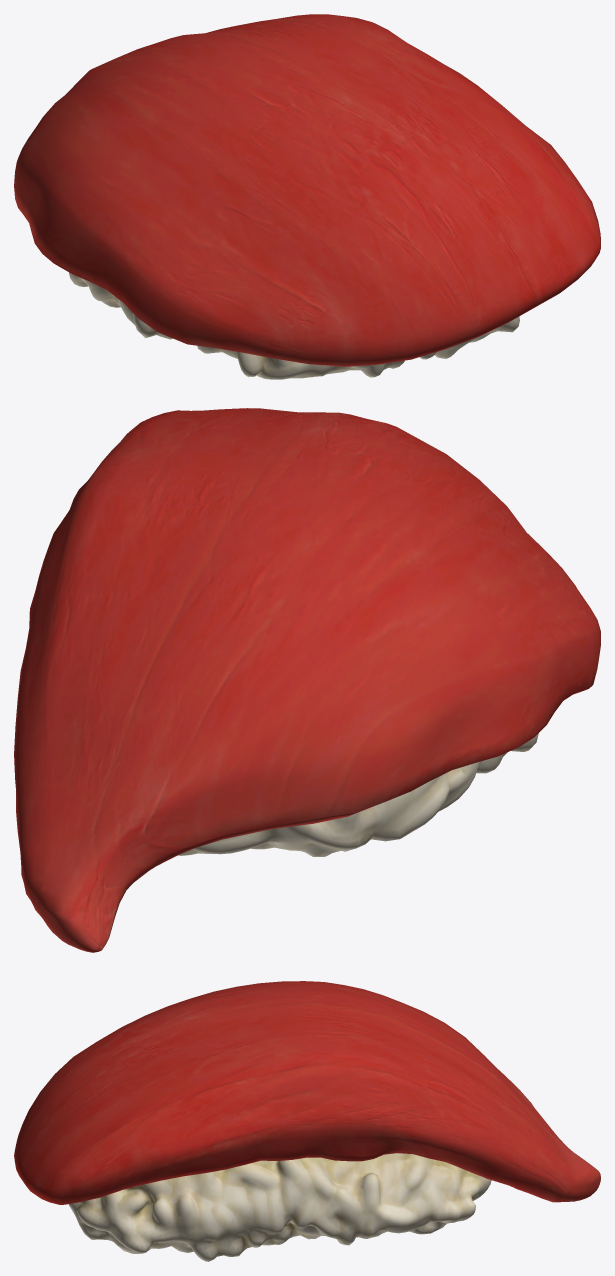
The model's file is Sashimi2.fbx.
3 renders of one model, top to bottom at view 1: azimuth 30°, elevation 25°; view 2: azimuth 150°, elevation 25°; view 3: azimuth 270°, elevation 25°, orthographic. The views are drawn at different scales.
Visible parts, largest first — view 1: node_id5; view 2: node_id5; view 3: node_id5.
Part boxes in pixels (box(x1,y1,x2,y2)): node_id5: box(14, 14, 600, 379); node_id5: box(14, 408, 600, 952); node_id5: box(14, 981, 600, 1261).
Bounding box in the file's own units: 0.512 × 0.2911 × 0.7439.
Materials: 1 (1 with a texture image).
